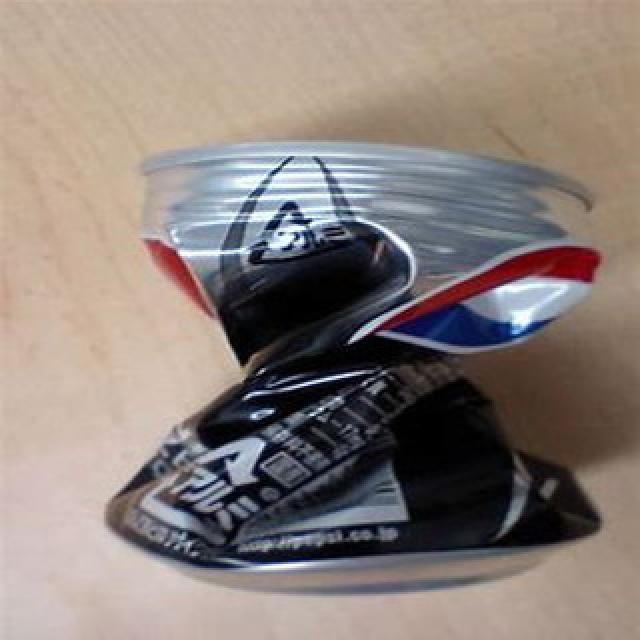Anorganik: (103, 115, 622, 591)
